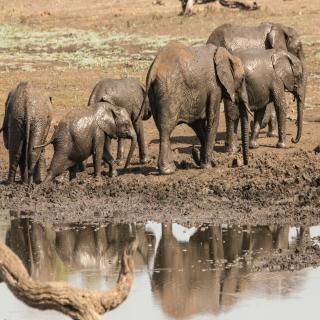Elephant: (144, 30, 254, 178), (45, 100, 139, 194), (233, 46, 309, 147), (0, 79, 53, 180)
